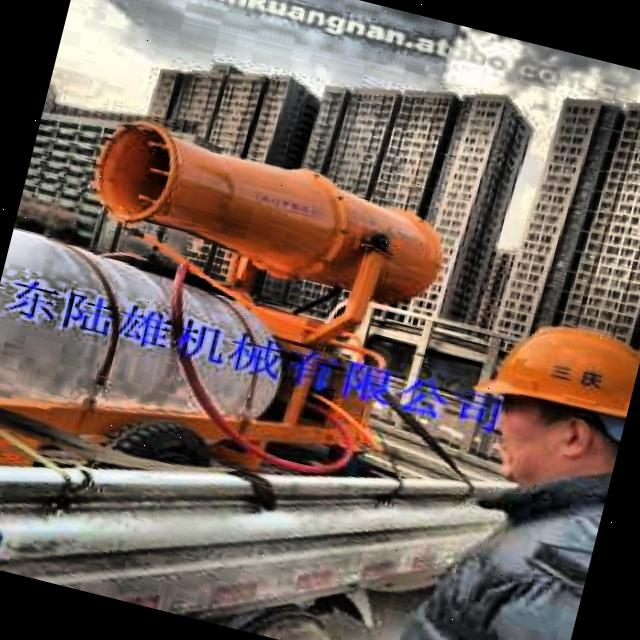helmet: (442, 292, 640, 514)
